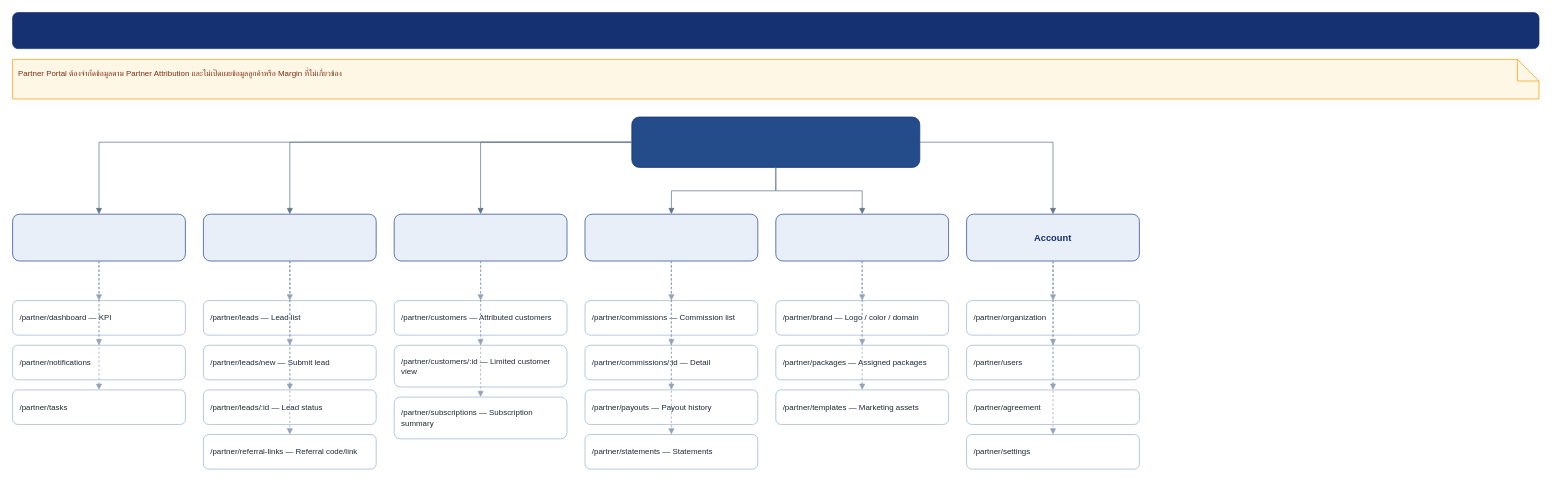
Image size: 1552x482. Some labels were removed from this diagram. Each missing label, with the box of its shape:
Commissions: (584, 213, 758, 261)
Customers: (393, 213, 567, 261)
Dashboard: (12, 213, 185, 261)
Lead Management: (203, 213, 376, 261)
Partner / Reseller Portal Sitemap: (12, 12, 1539, 49)
Partner Portal /partner: (631, 116, 920, 167)
White Label: (775, 213, 949, 261)
